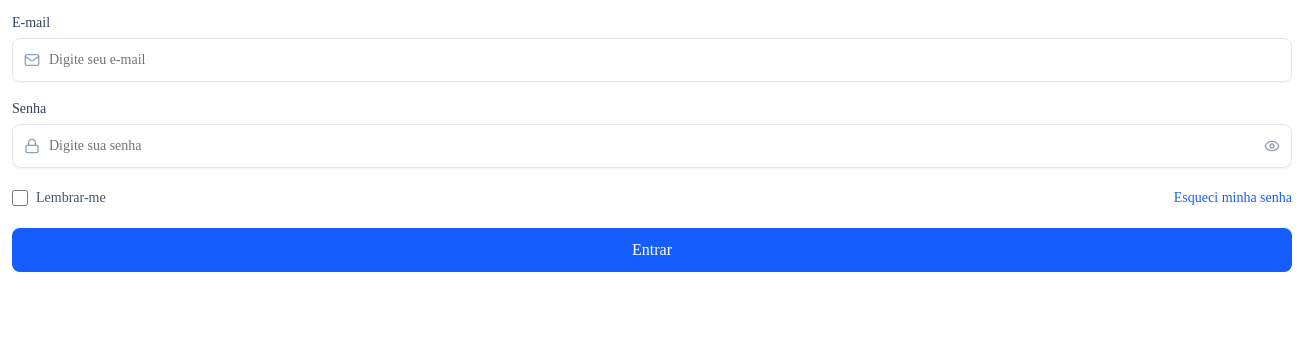
Test case: LoginForm › erro de conexão mostra mensagem amigável
This screenshot has width=1304, height=345.
In the field with placeholder "Digite seu e-mail": (652, 60) [12,38,1292,82], type "eng@empresa.com"
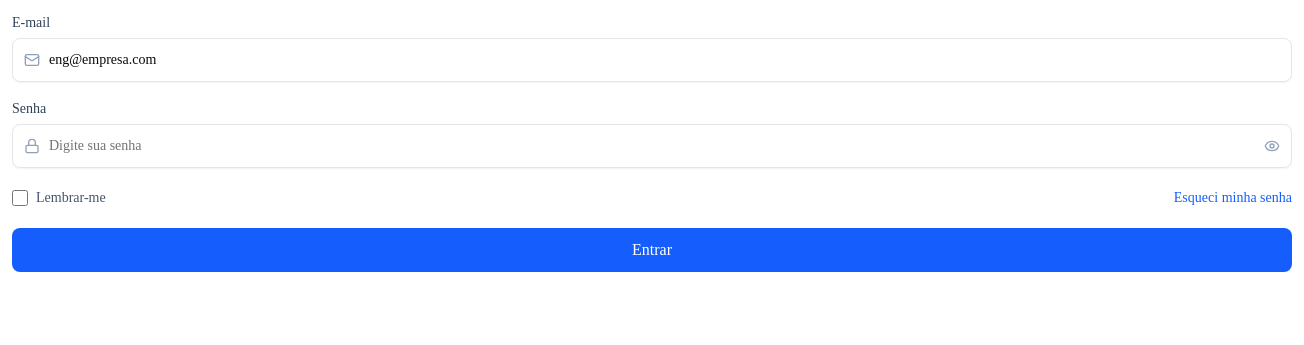
In the password field with placeholder "Digite sua senha": (652, 146) [12,124,1292,168], type "segredo123"
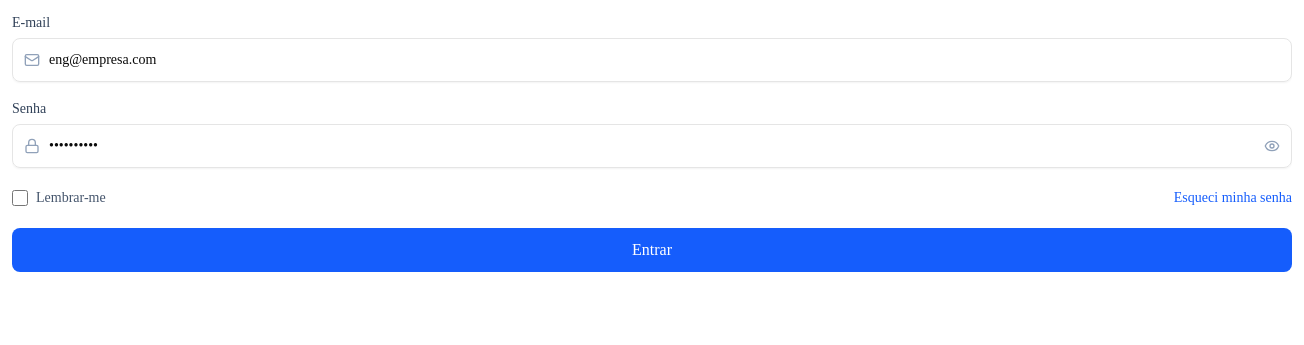
Submit the form "Entrar"
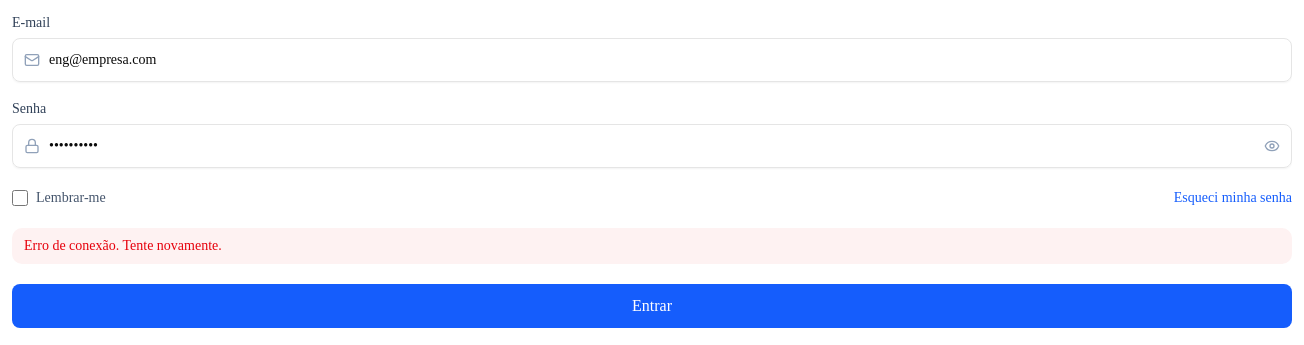
Expected: the button "Entrar" is enabled, [12,284,1292,328]
Now the text "Erro de conexão. Tente novamente." is shown, box [12,228,1292,264]
